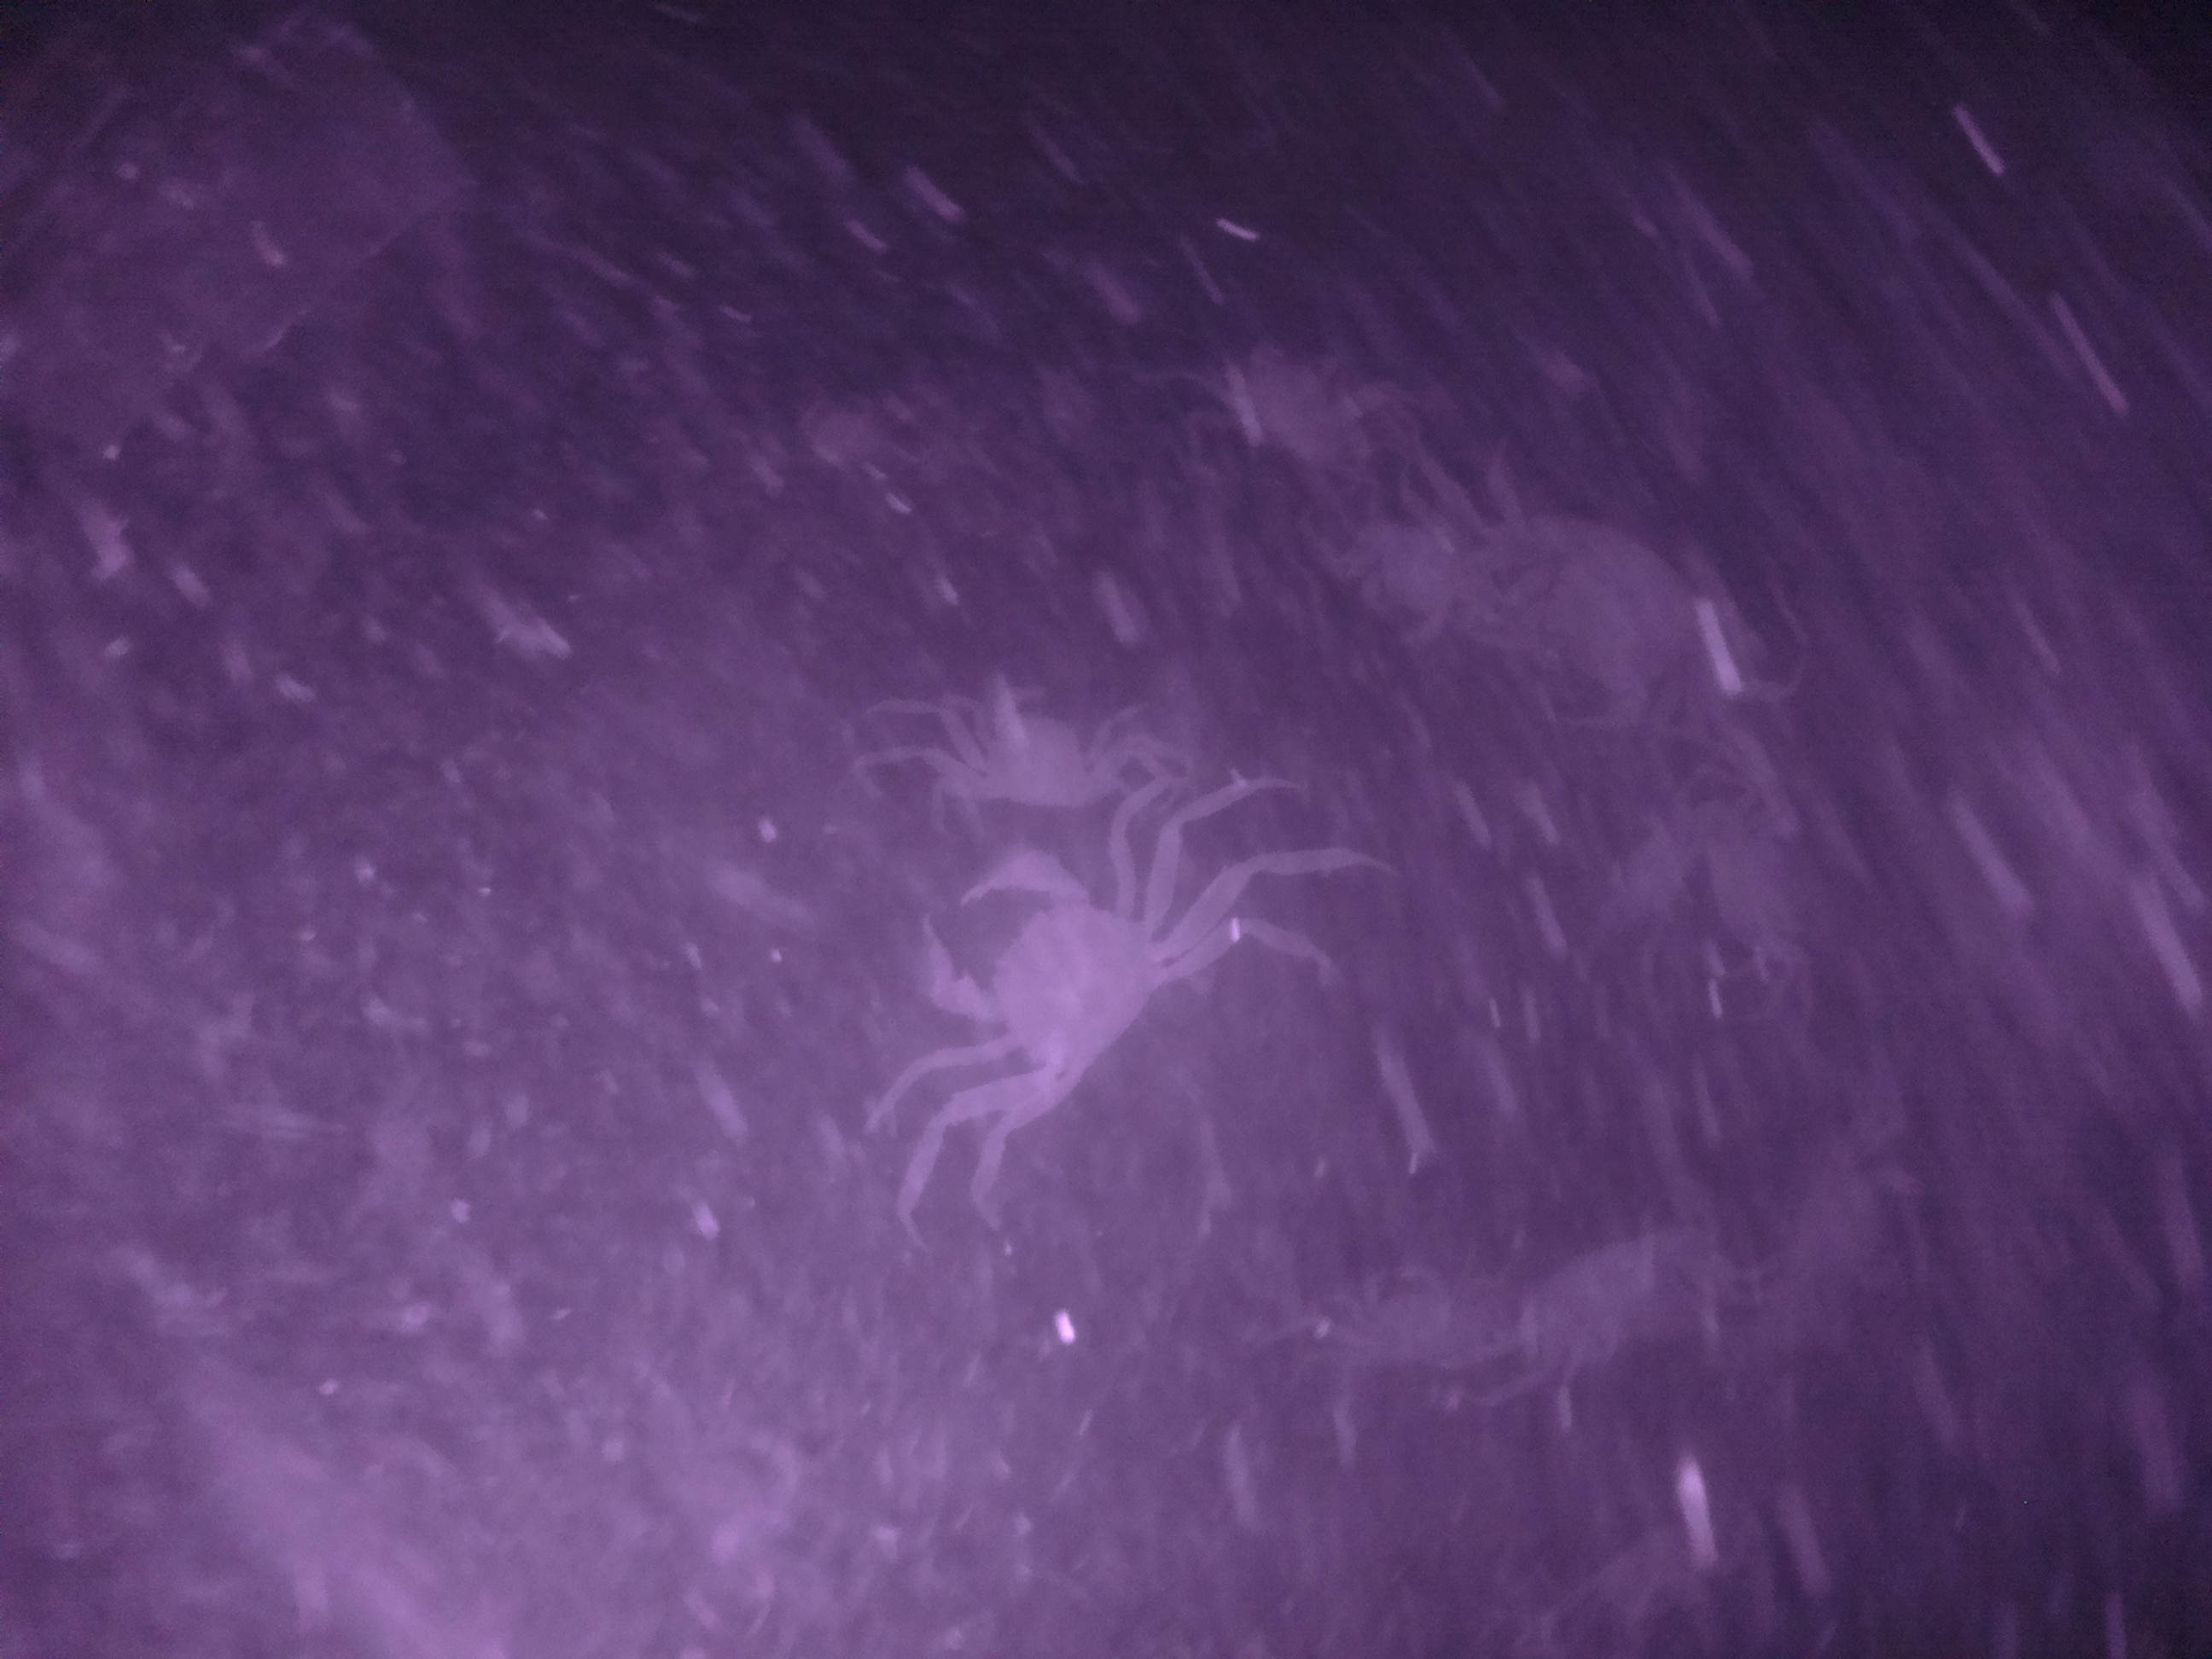Crab: (902, 823, 1211, 1168), (916, 671, 1163, 838)
